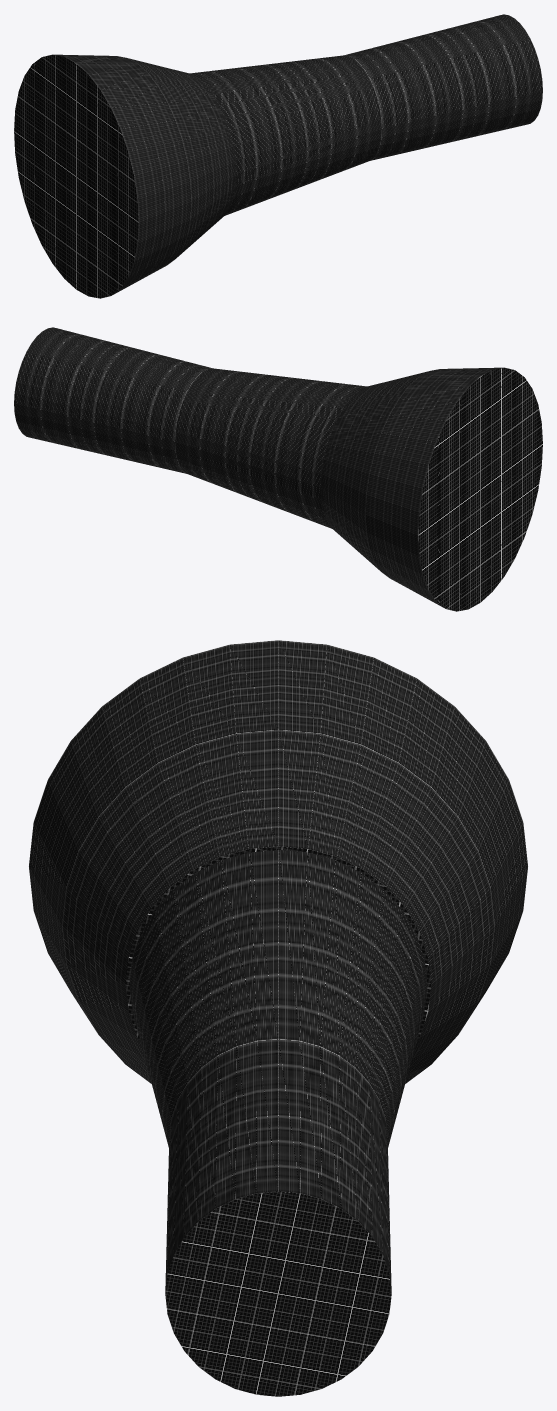
The model's file is flashlight.glb.
3 renders of one model, top to bottom at view 1: azimuth 30°, elevation 25°; view 2: azimuth 150°, elevation 25°; view 3: azimuth 270°, elevation 25°, orthographic. The views are drawn at different scales.
Visible parts, largest first — view 1: Cylinder.001; view 2: Cylinder.001; view 3: Cylinder.001.
Part boxes in pixels (<box>): Cylinder.001: <box>14,14,542,298</box>; Cylinder.001: <box>14,327,542,611</box>; Cylinder.001: <box>29,640,527,1396</box>.
Bounding box in the file's own units: 4.05 × 2 × 2.
Materials: 1 (1 with a texture image).
